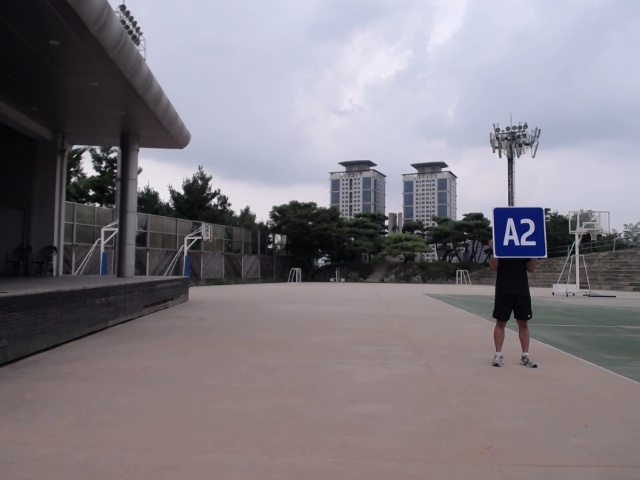delivery_a2: (493, 207, 547, 258)
